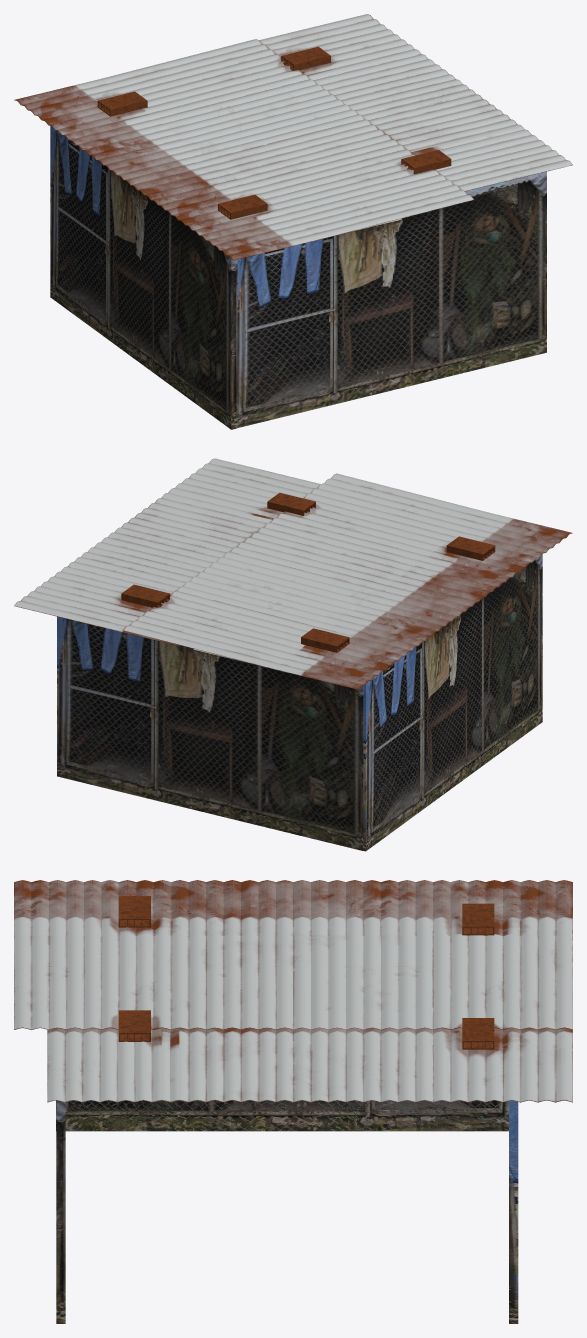
File: casa_izquierda_19.fbx
3 views of the same model, one above another, from view 1: azimuth 30°, elevation 25°; view 2: azimuth 150°, elevation 25°; view 3: azimuth 270°, elevation 25° (orthographic). The views are drawn at different scales.
Parts seen in each view (by area): view 1: Techo 18A.001, casa_izquierda_19.001, casa_izquierda_19; view 2: Techo 18A.001, casa_izquierda_19.002, casa_izquierda_19; view 3: Techo 18A.001, casa_izquierda_19, casa_izquierda_19.002, casa_izquierda_19.001.
Part boxes in pixels (bbox=[...]): Techo 18A.001: bbox=[14, 14, 572, 260]; casa_izquierda_19.001: bbox=[237, 171, 546, 427]; casa_izquierda_19: bbox=[50, 126, 237, 429]; Techo 18A.001: bbox=[14, 458, 572, 689]; casa_izquierda_19.002: bbox=[57, 616, 363, 850]; casa_izquierda_19: bbox=[363, 554, 542, 851]; Techo 18A.001: bbox=[14, 880, 572, 1102]; casa_izquierda_19: bbox=[56, 1100, 508, 1131]; casa_izquierda_19.002: bbox=[509, 1100, 518, 1323]; casa_izquierda_19.001: bbox=[56, 1100, 65, 1323].
Bounding box in the file's own units: 625 × 329 × 673.
